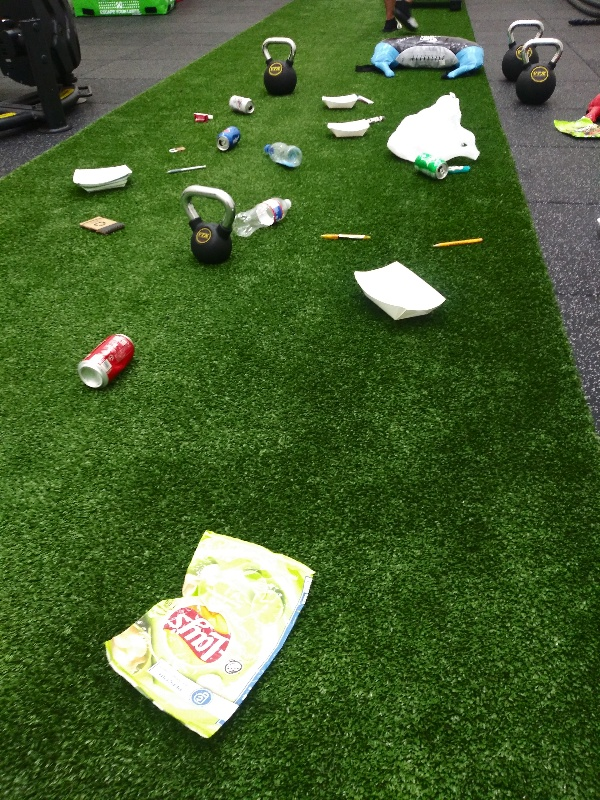bag: (100, 524, 322, 749), (551, 115, 600, 141)
bottle: (227, 192, 297, 239), (261, 140, 304, 173)
can: (75, 330, 138, 396), (408, 149, 453, 182), (211, 123, 244, 159), (225, 91, 257, 116)
plate: (348, 256, 449, 324), (71, 159, 134, 197), (321, 114, 375, 142), (316, 91, 361, 113)
